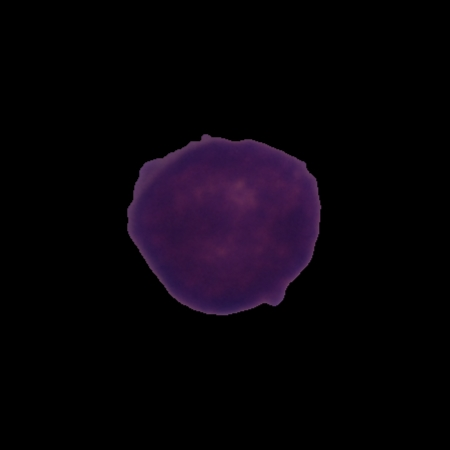HEM: (123, 130, 325, 318)
